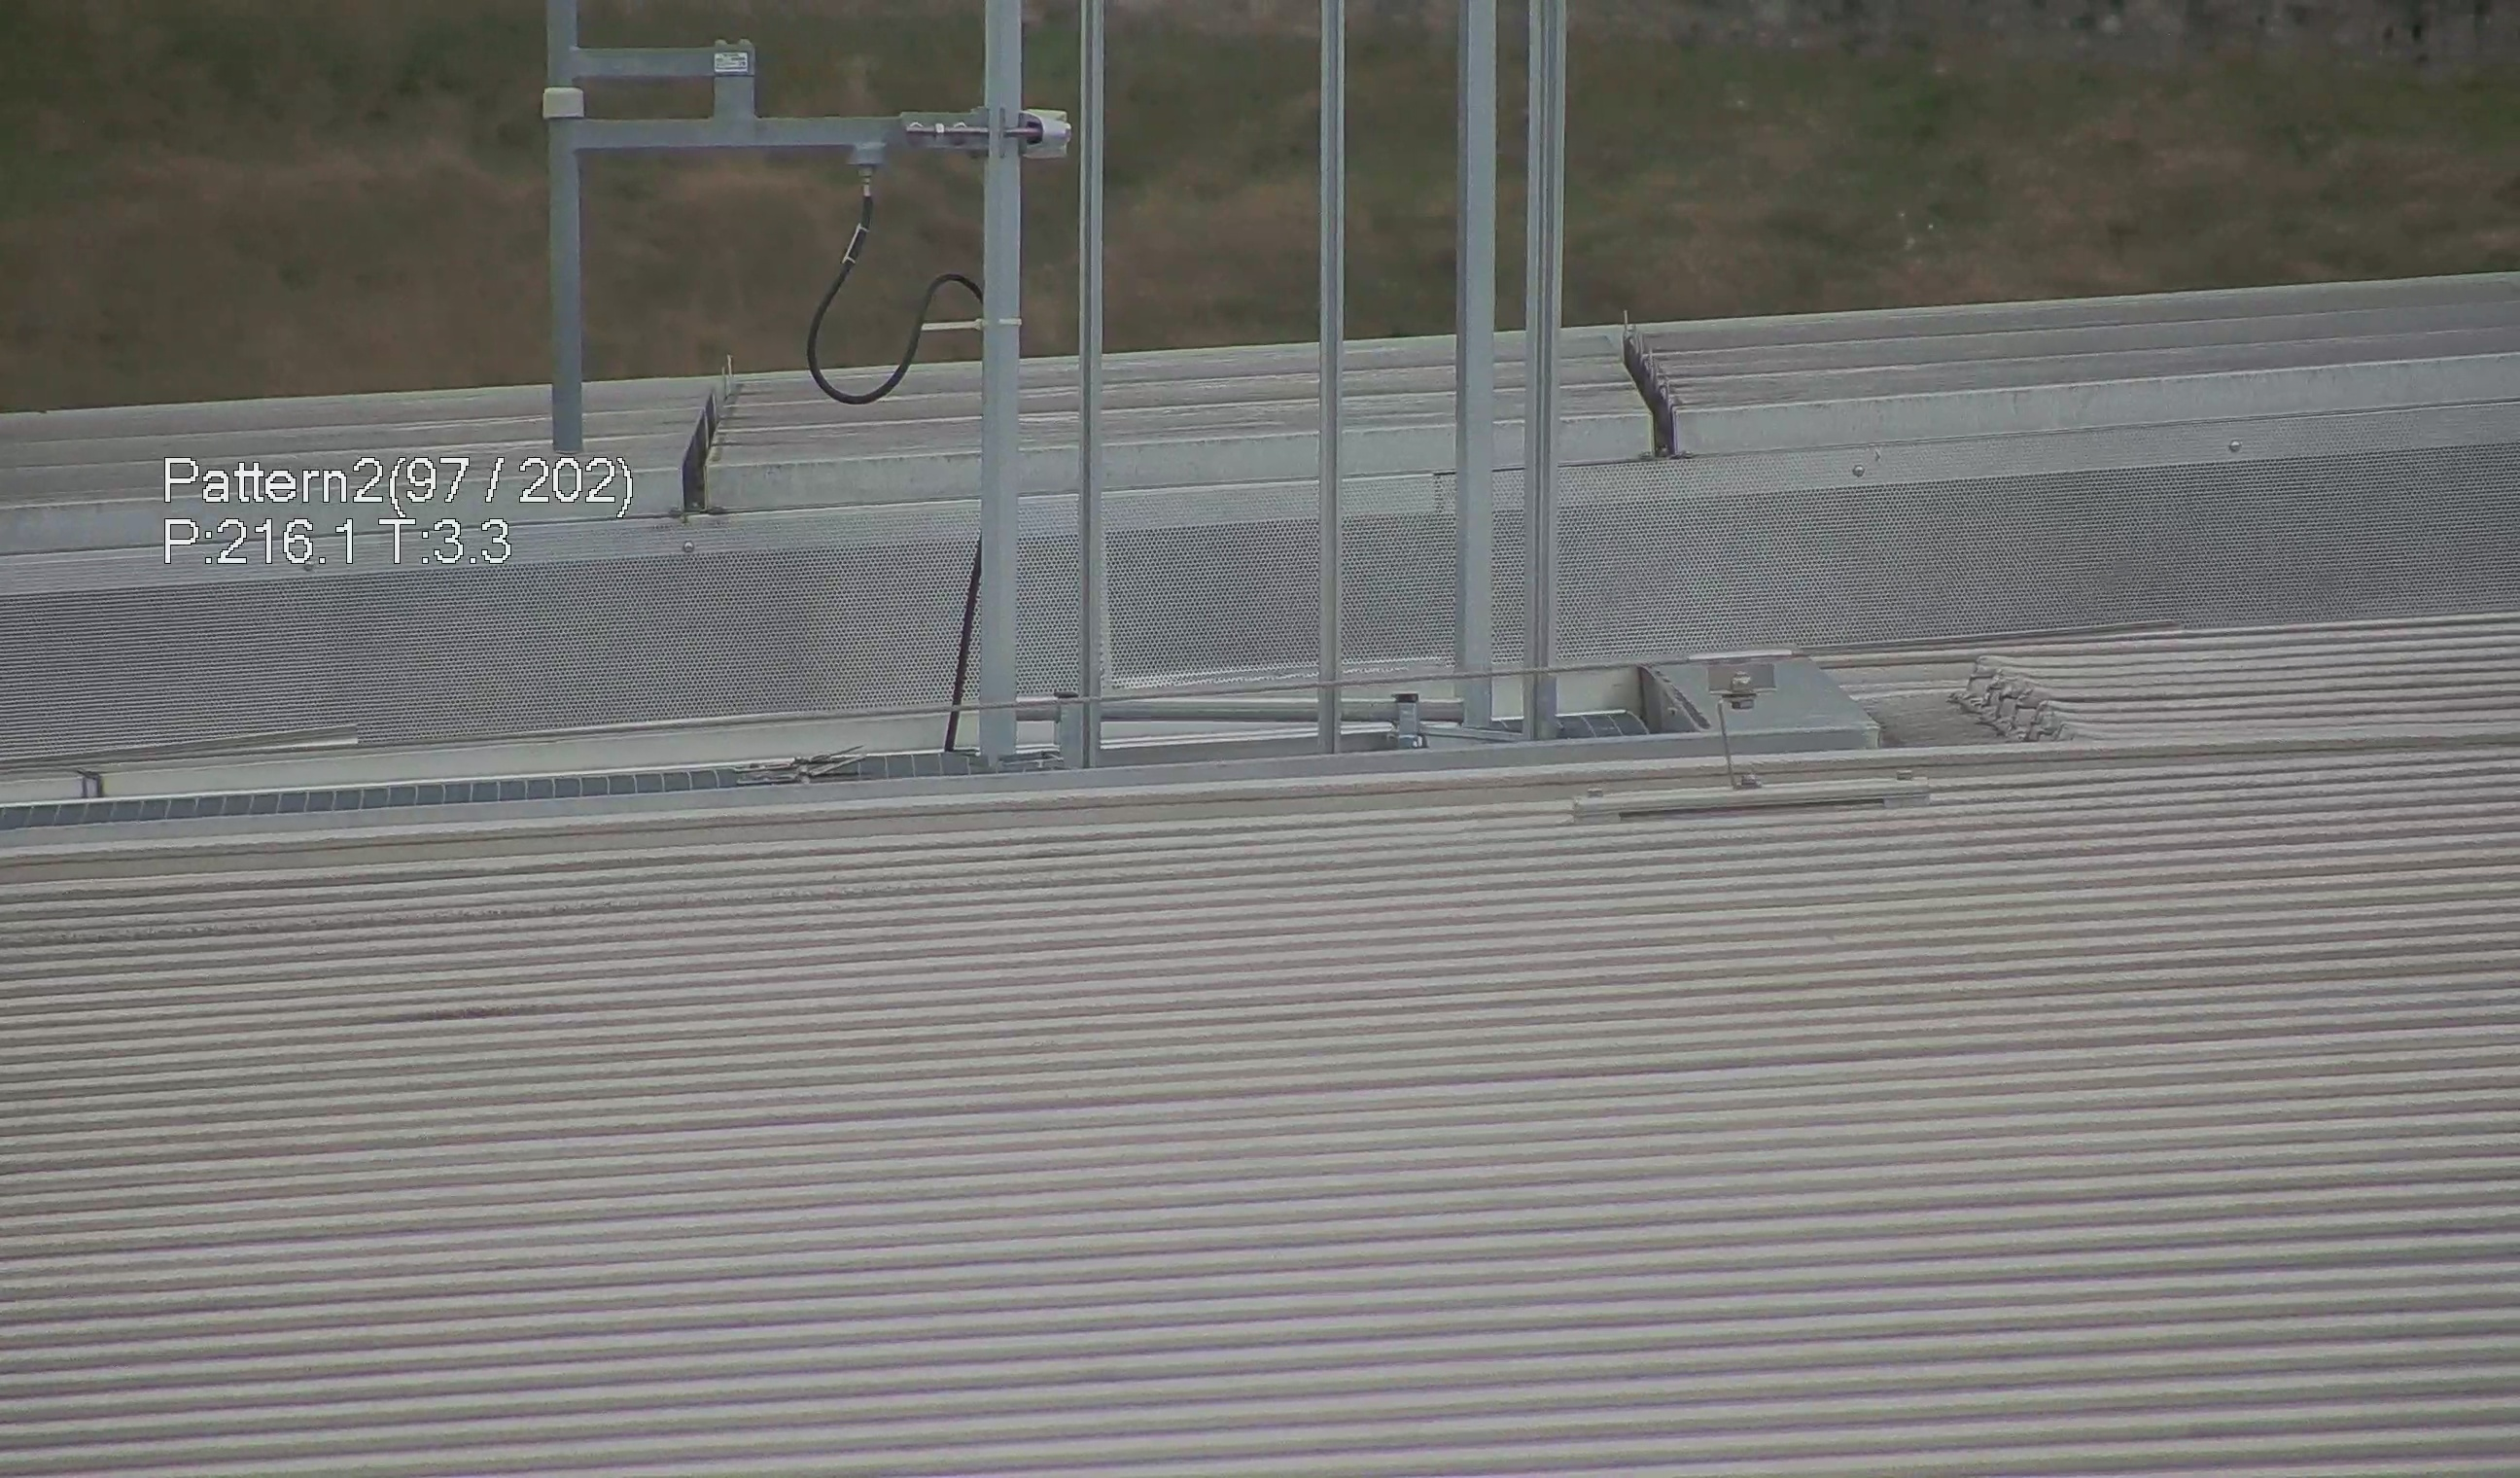Other: (1611, 306, 1708, 473)
